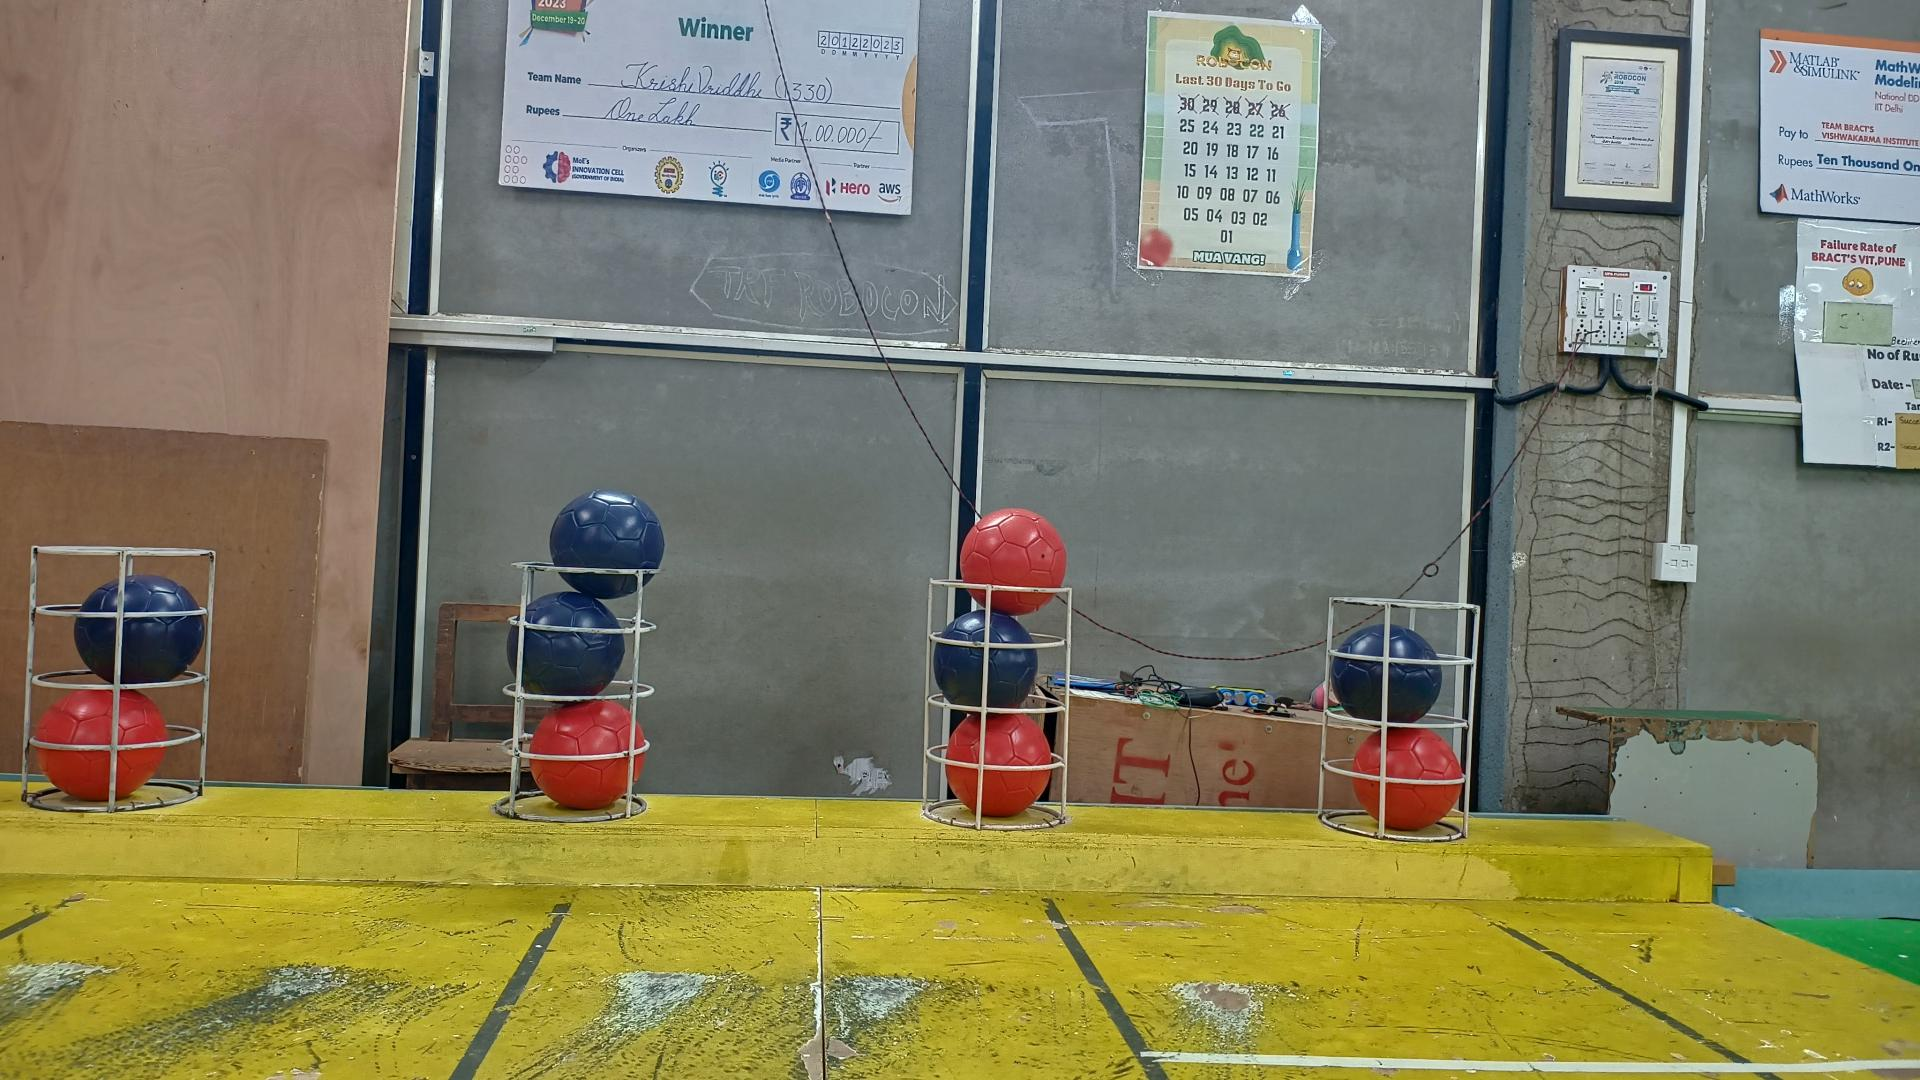dhoka: (75, 574, 206, 686), (506, 592, 626, 698), (547, 492, 663, 600), (1332, 622, 1444, 724), (930, 612, 1039, 708)
laale: (34, 690, 169, 803), (529, 702, 645, 810), (945, 712, 1054, 818), (1354, 728, 1462, 832), (960, 510, 1065, 615)
